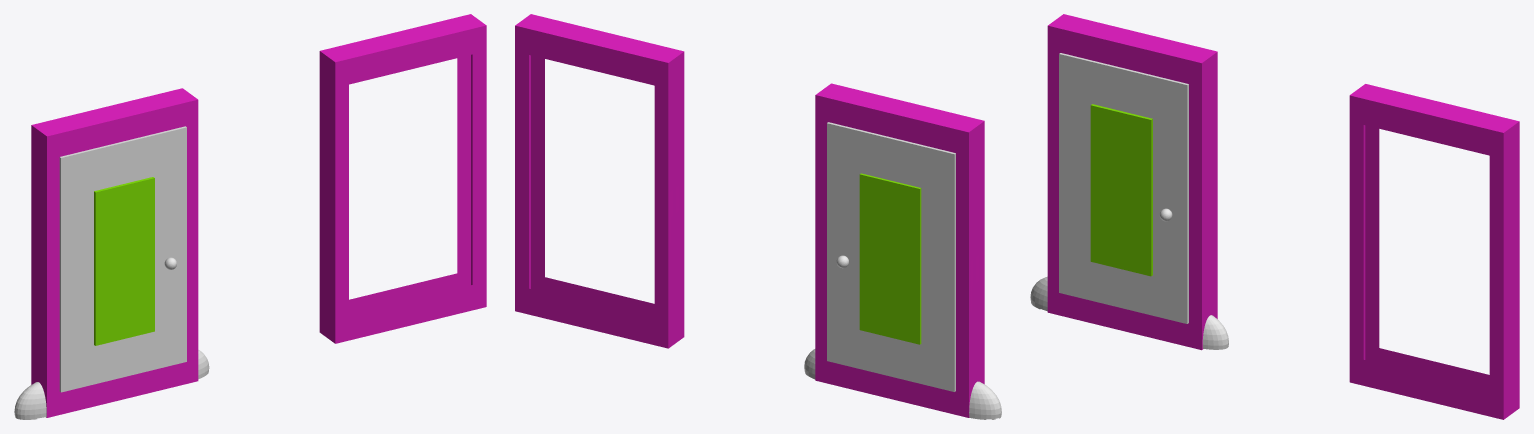
The model's file is pintuDoraemon.fbx.
The picture shows the model from 3 angles, left to right: view 1: azimuth 30°, elevation 25°; view 2: azimuth 150°, elevation 25°; view 3: azimuth 330°, elevation 25°; orthographic projection.
Visible parts, largest first — view 1: Door Frame.001, Door, Door Frame, Cube, Door Leg.001; view 2: Door Frame.001, Door, Door Frame, Cube, Door Leg.001; view 3: Door Frame.001, Door, Door Frame, Cube, Door Leg, Door Leg.001.
Part boxes in pixels (x1,y1,x2,y2): Door Frame.001: (319, 14, 486, 343); Door: (59, 126, 186, 392); Door Frame: (31, 88, 198, 417); Cube: (94, 177, 154, 345); Door Leg.001: (14, 382, 46, 419); Door Frame.001: (515, 14, 684, 348); Door: (827, 122, 955, 391); Door Frame: (815, 83, 984, 417); Cube: (859, 173, 921, 344); Door Leg.001: (969, 381, 1001, 419); Door Frame.001: (1349, 84, 1519, 419); Door: (1059, 53, 1188, 323); Door Frame: (1047, 14, 1217, 350); Cube: (1090, 104, 1152, 276); Door Leg: (1202, 315, 1228, 349); Door Leg.001: (1030, 276, 1047, 311).
Size of the model in its own units: 1706 by 983 by 190.
